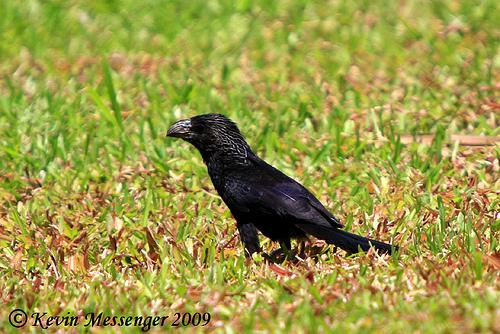004.Groove_billed_Ani: (167, 114, 397, 263)
